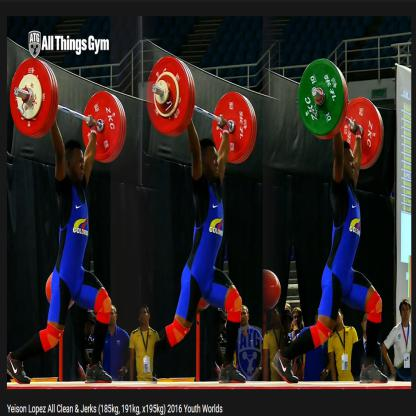Barbell: (295, 53, 351, 144), (145, 48, 196, 141), (5, 55, 60, 140)
